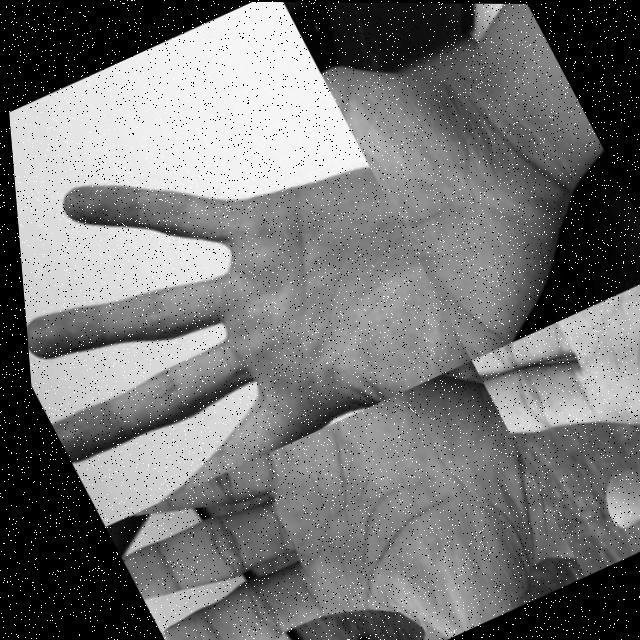no-gloves: (5, 75, 476, 529), (85, 357, 579, 640), (312, 1, 640, 362), (458, 268, 640, 572)
